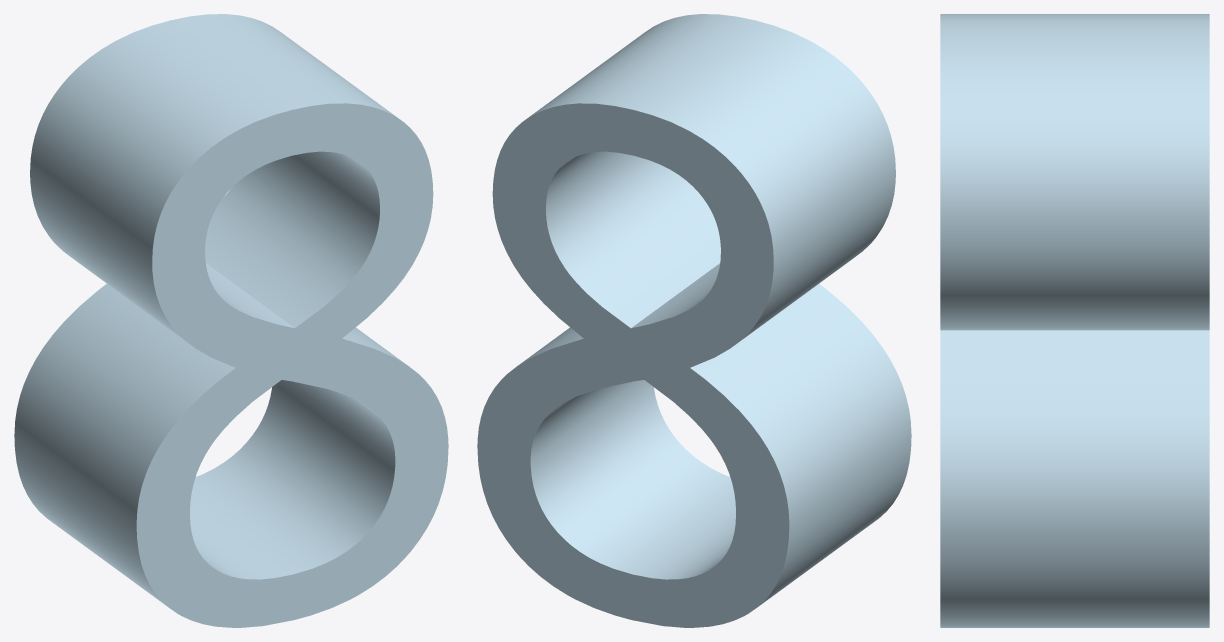
3 renders of one model, left to right at view 1: azimuth 30°, elevation 25°; view 2: azimuth 150°, elevation 25°; view 3: azimuth 270°, elevation 25°, orthographic. The views are drawn at different scales.
Parts seen in each view (by area): view 1: 8; view 2: 8; view 3: 8.
Boxes of the visible parts, x1=… form: 8: x1=14, y1=14, x2=448, y2=627; 8: x1=477, y1=14, x2=911, y2=627; 8: x1=940, y1=14, x2=1209, y2=627.
Size of the model in its own units: 0.0369 by 0.0577 by 0.025.
